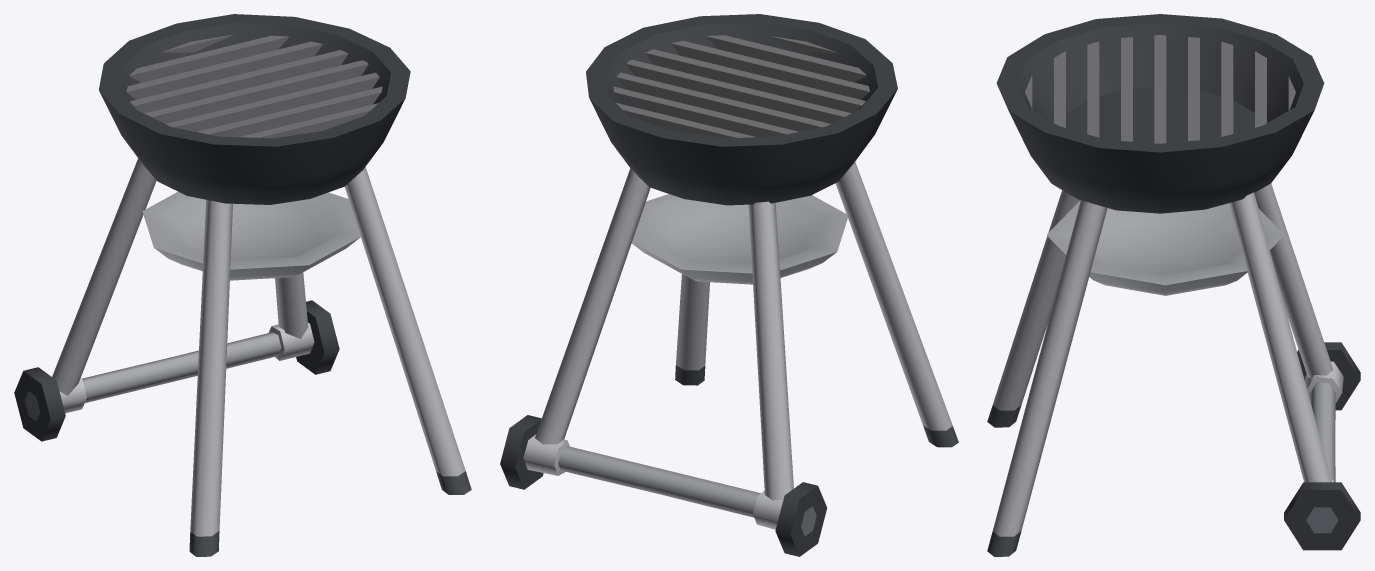
File: SM_Prop_Barbeque_02.obj
The picture shows the model from 3 angles, left to right: view 1: azimuth 30°, elevation 25°; view 2: azimuth 150°, elevation 25°; view 3: azimuth 270°, elevation 25°; orthographic projection. The views are drawn at different scales.
Parts seen in each view (by area): view 1: SM_Prop_Barbeque_02_Mat_SwatchOverlay_PolygonTown_01_Inst; view 2: SM_Prop_Barbeque_02_Mat_SwatchOverlay_PolygonTown_01_Inst; view 3: SM_Prop_Barbeque_02_Mat_SwatchOverlay_PolygonTown_01_Inst.
Boxes of the visible parts, x1,y1,x2,y2 form: SM_Prop_Barbeque_02_Mat_SwatchOverlay_PolygonTown_01_Inst: [14, 14, 471, 556]; SM_Prop_Barbeque_02_Mat_SwatchOverlay_PolygonTown_01_Inst: [500, 14, 958, 556]; SM_Prop_Barbeque_02_Mat_SwatchOverlay_PolygonTown_01_Inst: [987, 14, 1360, 556].
Size of the model in its own units: 1.14 by 1.46 by 1.22.
1 material, 1 textured.
